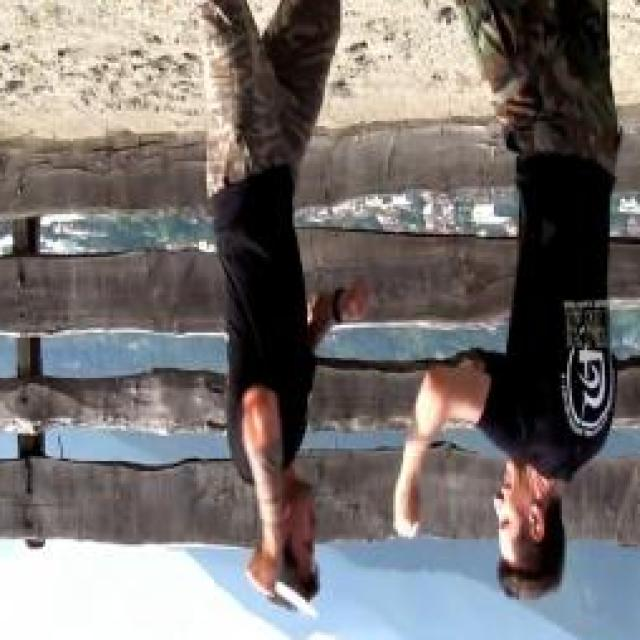knife: (244, 553, 322, 635)
